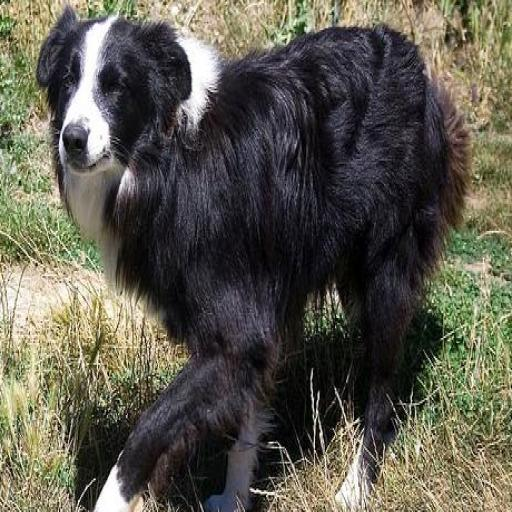dog_face: (39, 22, 186, 176)
